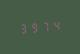four: (51, 19, 61, 32)
nine: (29, 20, 39, 34)
seven: (40, 19, 50, 33)
three: (18, 21, 28, 34)
